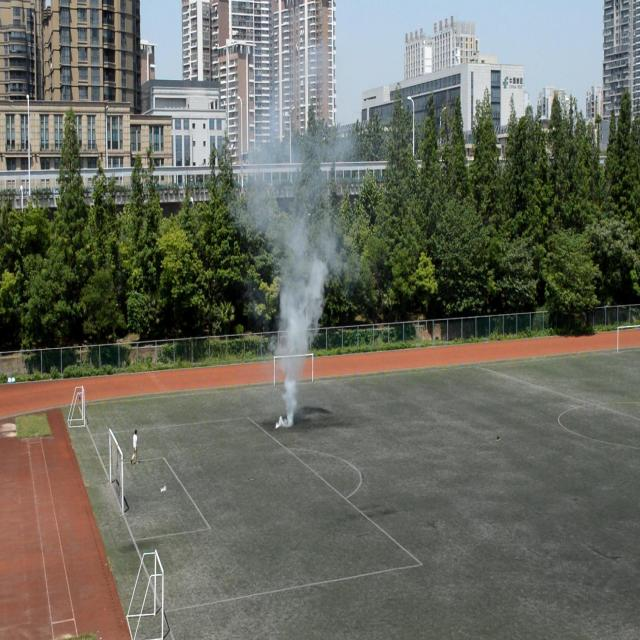smoke: (239, 47, 359, 430)
